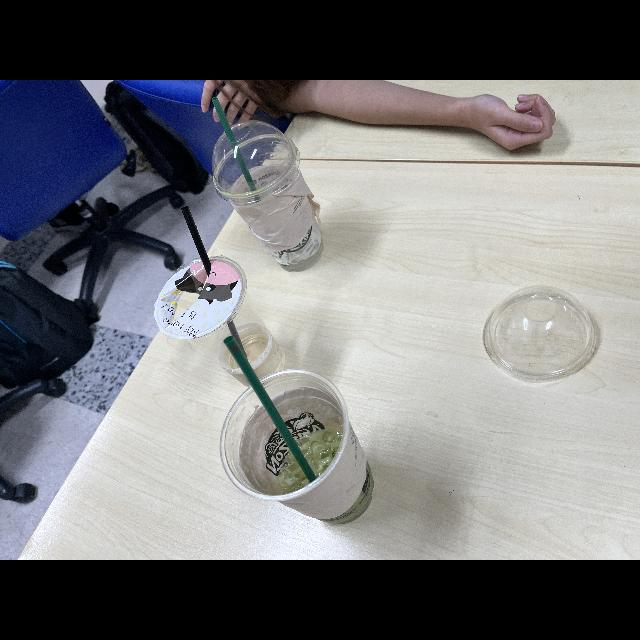plastic_cup: (218, 371, 378, 527), (151, 253, 287, 385), (215, 136, 325, 272)
plastic_cup_lid: (480, 280, 600, 382), (211, 120, 299, 202)
straw: (223, 335, 316, 486), (181, 206, 245, 357), (211, 97, 261, 201)
